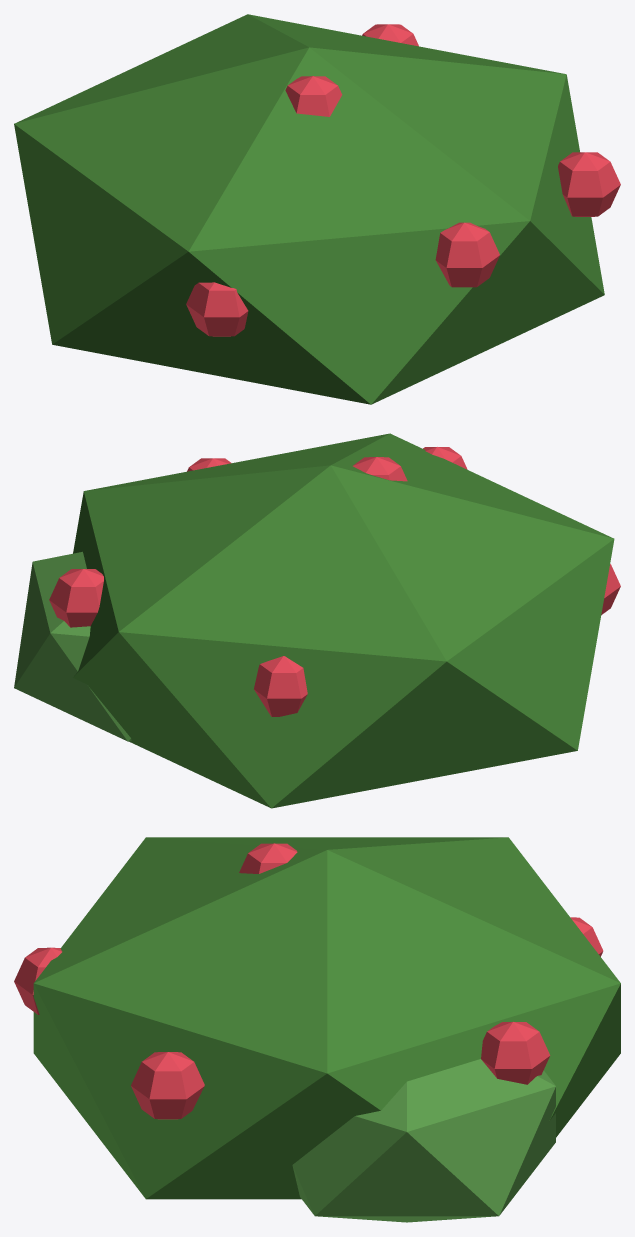
The model's file is berry.glb.
3 views of the same model, one above another, from view 1: azimuth 30°, elevation 25°; view 2: azimuth 150°, elevation 25°; view 3: azimuth 270°, elevation 25° (orthographic). The views are drawn at different scales.
Parts seen in each view (by area): view 1: berry; view 2: berry; view 3: berry.
Boxes of the visible parts, x1,y1,x2,y2 form: berry: (14,14,620,404); berry: (14,433,620,808); berry: (14,837,620,1222).
Bounding box in the file's own units: 1.2 × 0.7 × 1.14.
